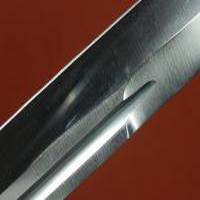knife: (3, 19, 183, 199)
